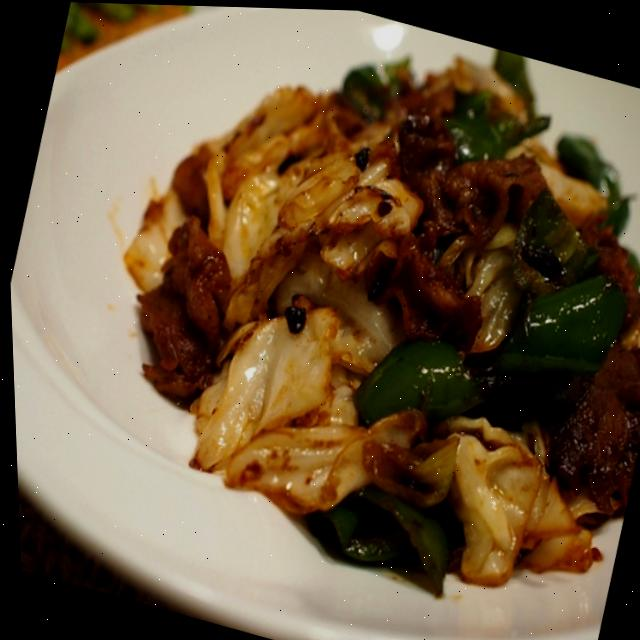猪肉菜式: (41, 1, 640, 640)
